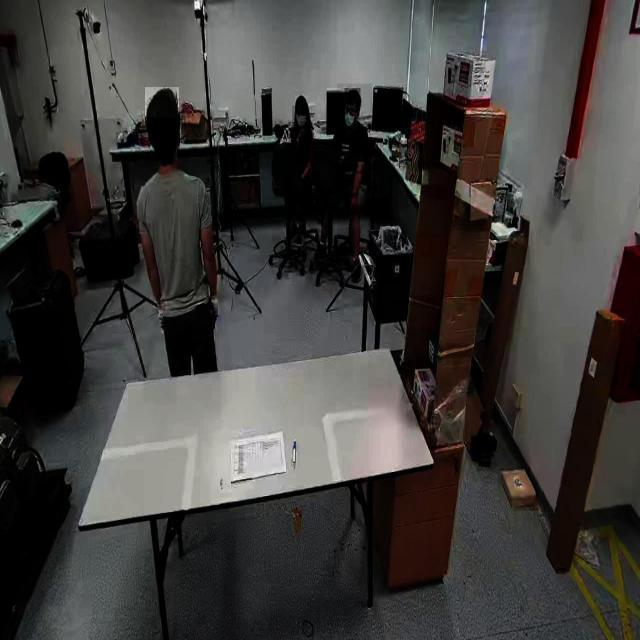face_mask: (292, 106, 308, 137), (346, 98, 360, 133)
hand_noglove: (347, 193, 359, 216), (296, 126, 306, 140)
head_nohelmet: (145, 87, 179, 118), (345, 88, 361, 102), (294, 95, 308, 108)
person: (134, 102, 220, 380), (337, 83, 373, 257), (287, 94, 318, 252)
